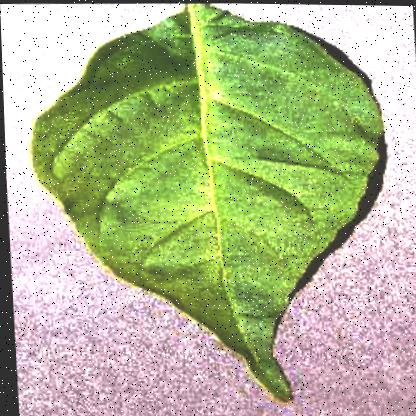Healthy: (20, 0, 397, 408)
